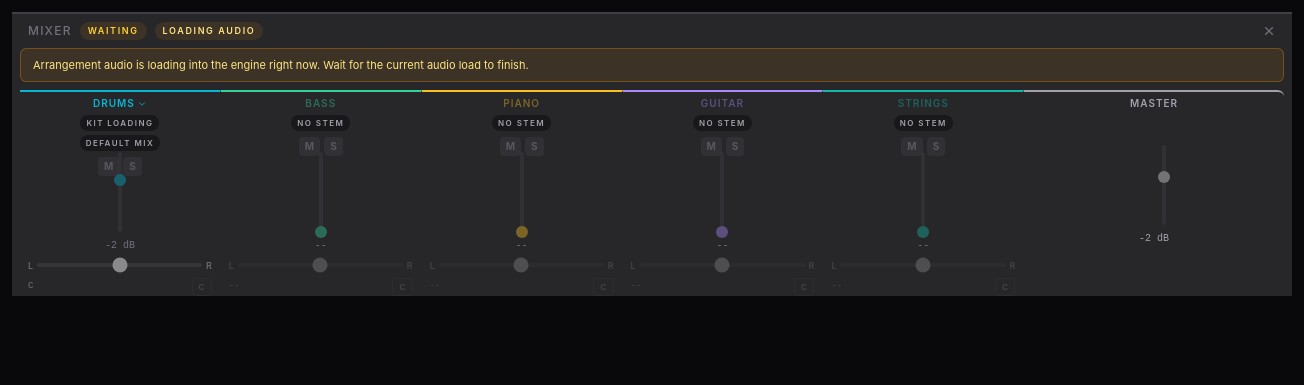
Test case: MixerDrawer › shows drum sub-mix loading truth until the drum kit is loaded
Click the button "DRUMS" at (120, 104), box x1=93 y1=96 x2=147 y2=111
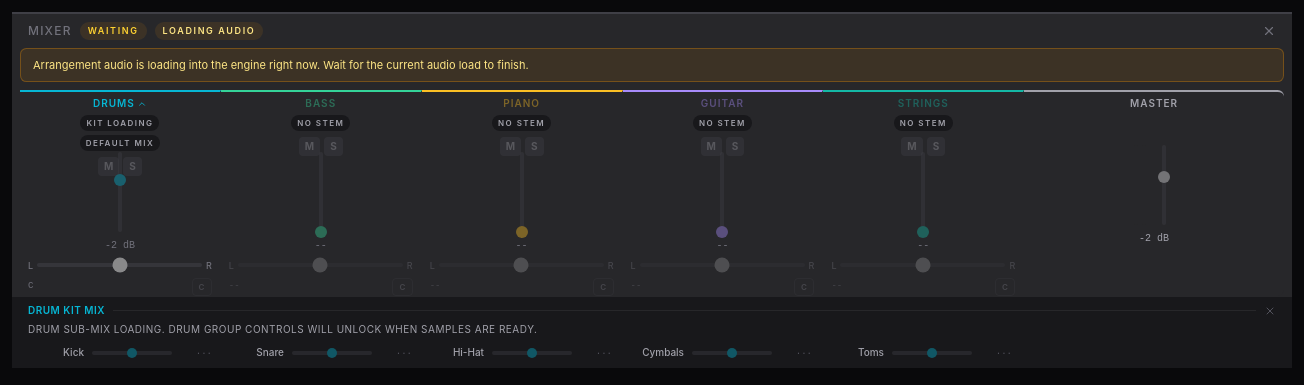
Check: the text "Arrangement audio is loading into the engine right now. Wait for the current audio load to finish." is shown, box x1=33 y1=58 x2=529 y2=72
Check: the text "Drum sub-mix loading. Drum group controls will unlock when samples are ready." is shown, box x1=28 y1=323 x2=538 y2=335
Check: the slider with id "drum-sub-kick" is disabled, box x1=92 y1=350 x2=172 y2=354
